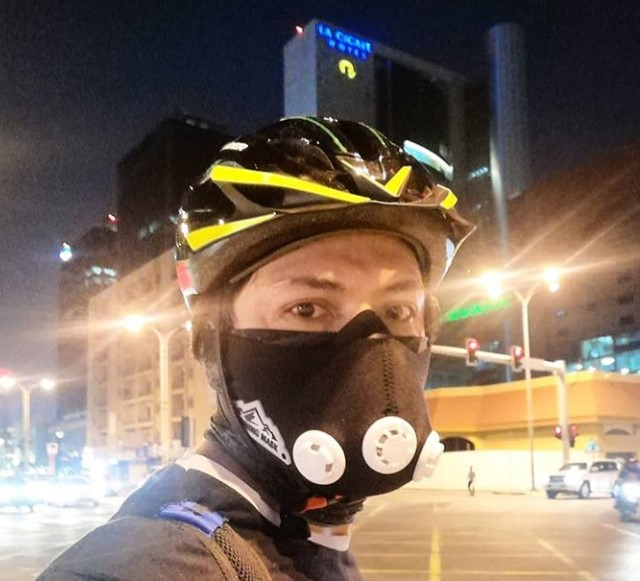face_with_mask: (172, 113, 478, 525)
